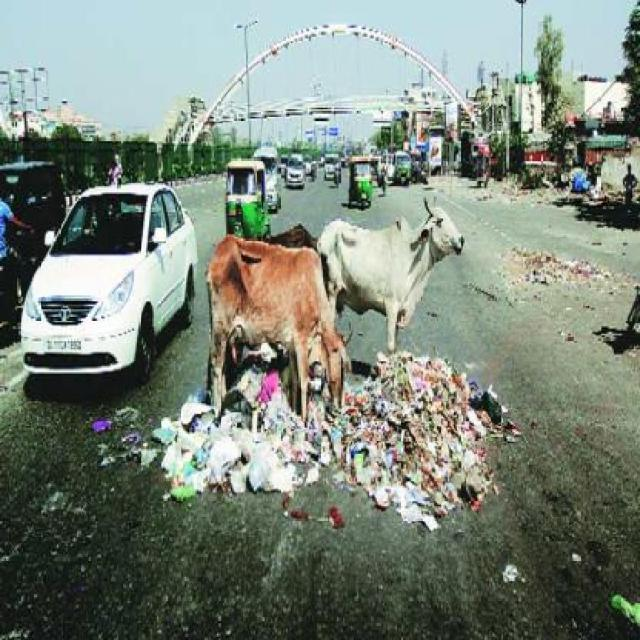garbage: (345, 329, 487, 572), (176, 383, 339, 516), (497, 228, 632, 301)
